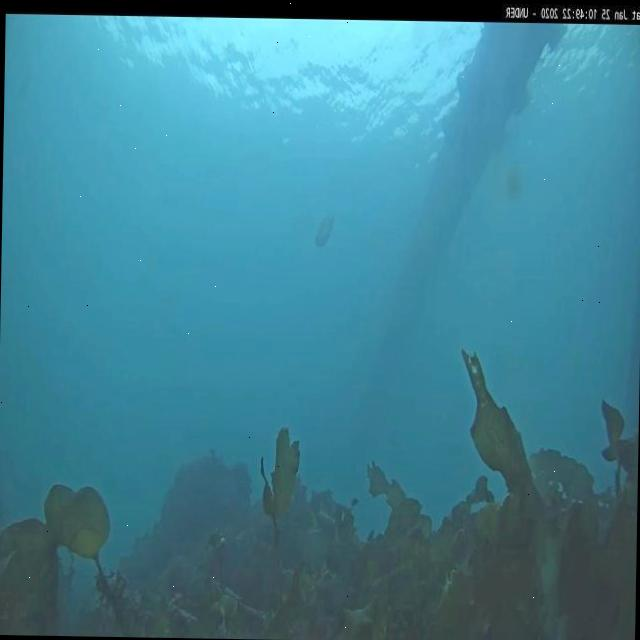fish: (310, 212, 337, 248)
